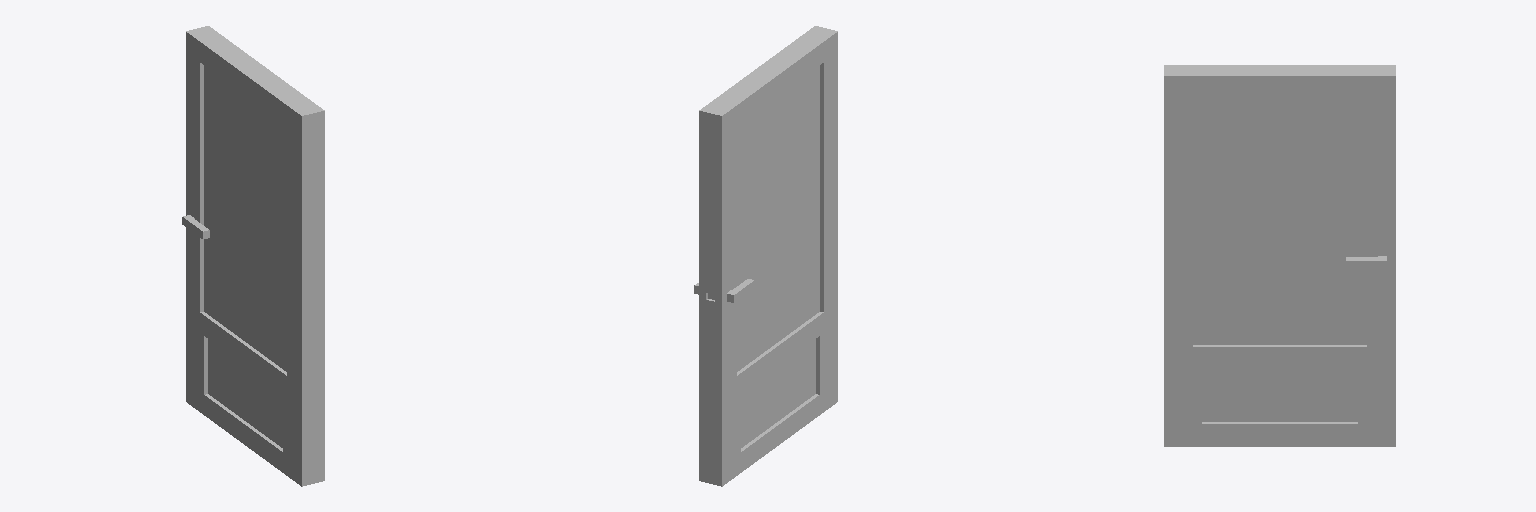
Rendered from Door.obj.
3 views of the same model, side by side, from view 1: azimuth 30°, elevation 25°; view 2: azimuth 150°, elevation 25°; view 3: azimuth 270°, elevation 25° (orthographic).
Parts seen in each view (by area): view 1: Cube; view 2: Cube; view 3: Cube.
Boxes of the visible parts, box(x1,y1,x2,y2) form: Cube: box(182, 26, 324, 486); Cube: box(694, 26, 837, 486); Cube: box(1164, 65, 1395, 446).
Bounding box in the file's own units: 0.7828 × 6.98 × 3.96.